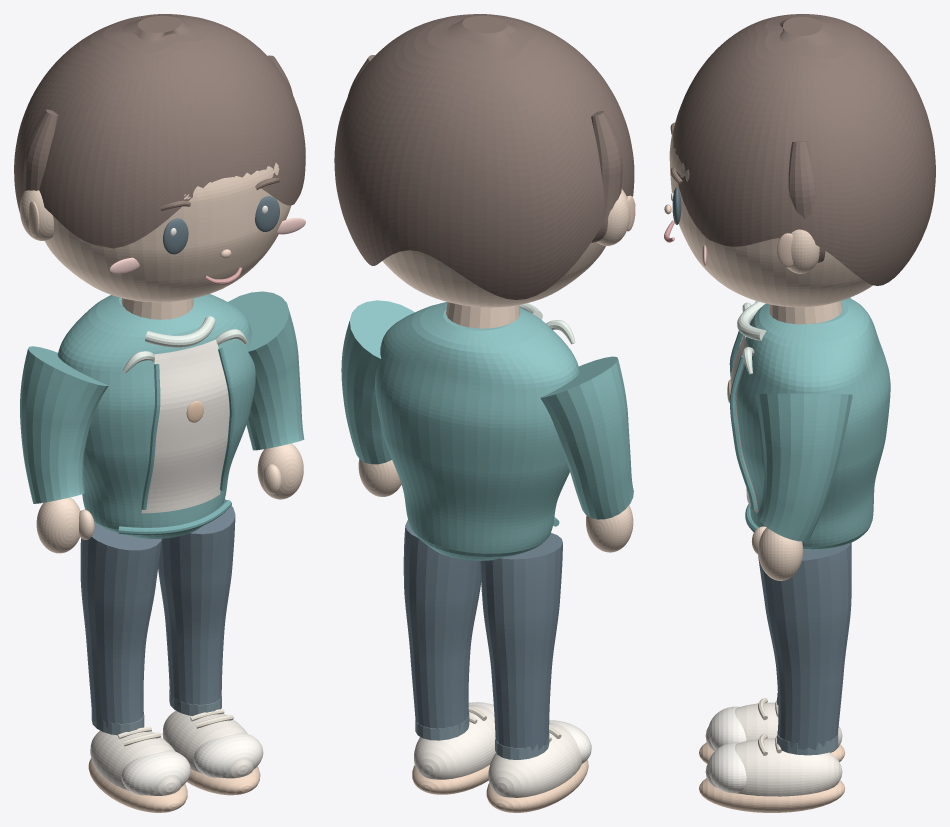
The model's file is kaohsiung_chibi_base.glb.
3 views of the same model, side by side, from view 1: azimuth 30°, elevation 25°; view 2: azimuth 150°, elevation 25°; view 3: azimuth 270°, elevation 25° (orthographic). The views are drawn at different scales.
Parts seen in each view (by area): view 1: Hair_Scalp, TailoredJacket, SculptedHead, LeftTrouser, RightTrouser, CurvedShirtInset, LeftSleeve, RightSleeve, LeftSneaker, RightSneaker, LeftToe, RightToe (+15 smaller); view 2: Hair_Scalp, TailoredJacket, LeftTrouser, RightTrouser, LeftSleeve, RightSleeve, SculptedHead, LeftSneaker, RightSneaker, HairSide_L, LeftSole, LeftPalm (+7 smaller); view 3: Hair_Scalp, TailoredJacket, RightTrouser, RightSleeve, SculptedHead, RightSneaker, RightSole, HairSide_R, RightPalm, RightToe, LeftSneaker, Neck (+6 smaller).
Boxes of the visible parts, x1,y1,x2,y2 form: Hair_Scalp: [14, 14, 305, 248]; TailoredJacket: [57, 294, 255, 538]; SculptedHead: [44, 162, 290, 302]; LeftTrouser: [80, 522, 162, 727]; RightTrouser: [158, 499, 235, 707]; CurvedShirtInset: [141, 339, 229, 513]; LeftSleeve: [20, 346, 108, 503]; RightSleeve: [228, 291, 304, 450]; LeftSneaker: [90, 730, 181, 795]; RightSneaker: [162, 710, 253, 778]; LeftToe: [121, 750, 190, 795]; RightToe: [194, 732, 263, 777]; Hair_Scalp: [334, 14, 634, 299]; TailoredJacket: [375, 302, 579, 560]; LeftTrouser: [480, 533, 562, 750]; RightTrouser: [403, 520, 481, 729]; LeftSleeve: [540, 356, 633, 519]; RightSleeve: [341, 300, 414, 464]; SculptedHead: [382, 242, 605, 307]; LeftSneaker: [488, 723, 581, 797]; RightSneaker: [414, 704, 495, 779]; HairSide_L: [591, 111, 622, 242]; LeftSole: [486, 760, 588, 812]; LeftPalm: [586, 505, 633, 552]; Hair_Scalp: [673, 14, 935, 285]; TailoredJacket: [736, 298, 890, 550]; RightTrouser: [758, 543, 851, 749]; RightSleeve: [755, 393, 852, 541]; SculptedHead: [669, 131, 872, 307]; RightSneaker: [705, 738, 842, 796]; RightSole: [699, 778, 845, 812]; HairSide_R: [788, 141, 825, 262]; RightPalm: [758, 527, 803, 580]; RightToe: [708, 742, 746, 793]; LeftSneaker: [705, 702, 842, 752]; Neck: [769, 301, 842, 324].
Bounding box in the file's own units: 1.16 × 3.02 × 0.9775.
